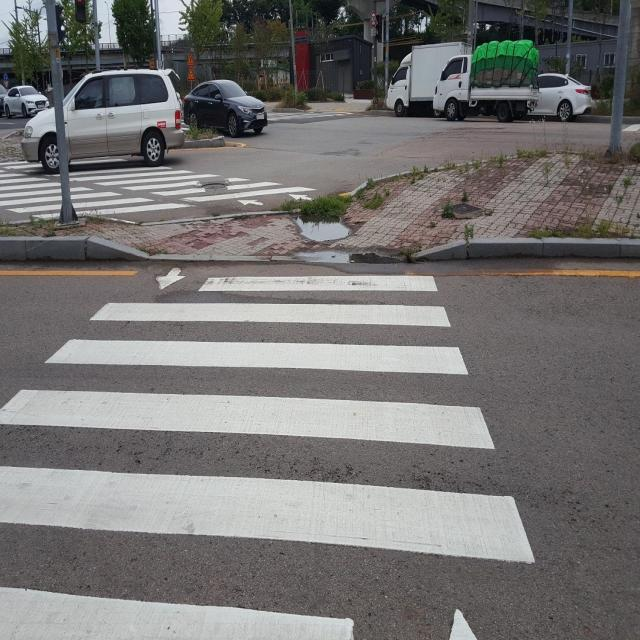횡단보도: (0, 260, 538, 640), (0, 158, 320, 228)
